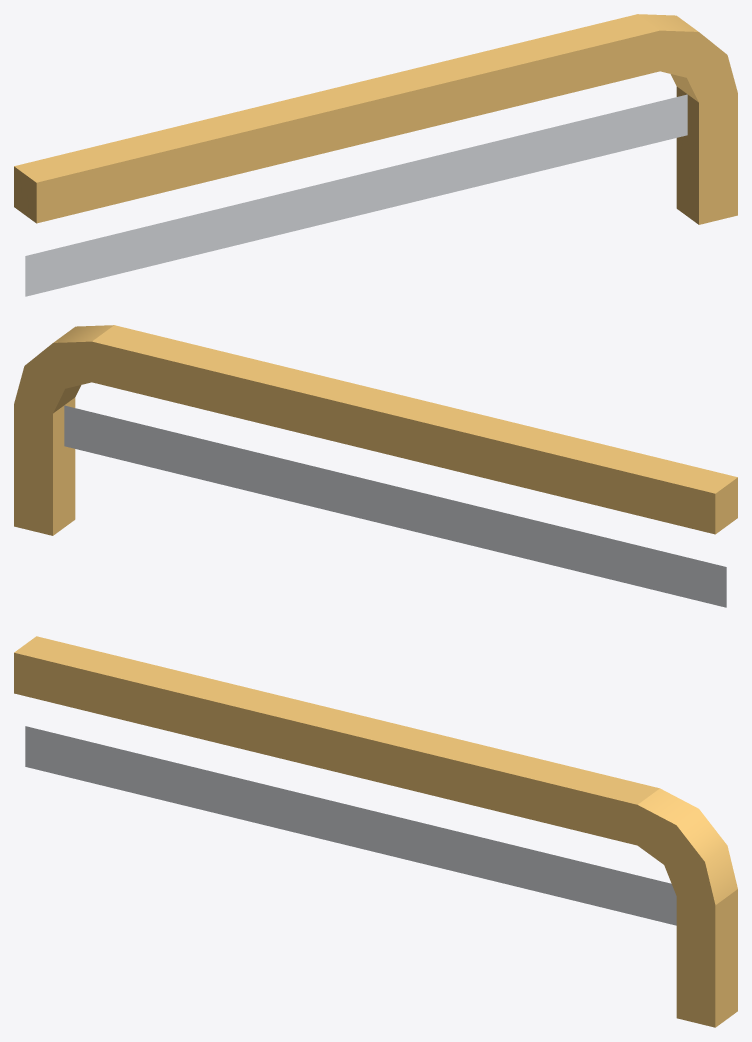
File: rail_end.glb
The picture shows the model from 3 angles, top to bottom: view 1: azimuth 30°, elevation 25°; view 2: azimuth 150°, elevation 25°; view 3: azimuth 330°, elevation 25°; orthographic projection.
Visible parts, largest first — view 1: rail_end; view 2: rail_end; view 3: rail_end.
Boxes of the visible parts, bbox=[...] form: rail_end: bbox=[14, 14, 737, 296]; rail_end: bbox=[14, 325, 737, 607]; rail_end: bbox=[14, 636, 737, 1027].
Size of the model in its own units: 1.17 by 0.325 by 0.065.
